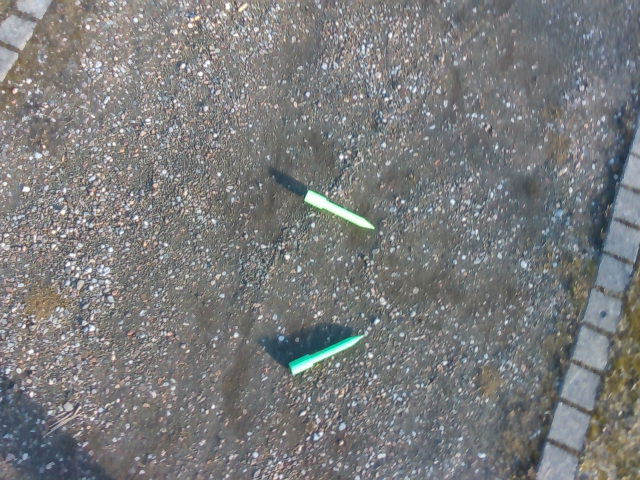Probe: (284, 329, 370, 377), (296, 186, 380, 234)
